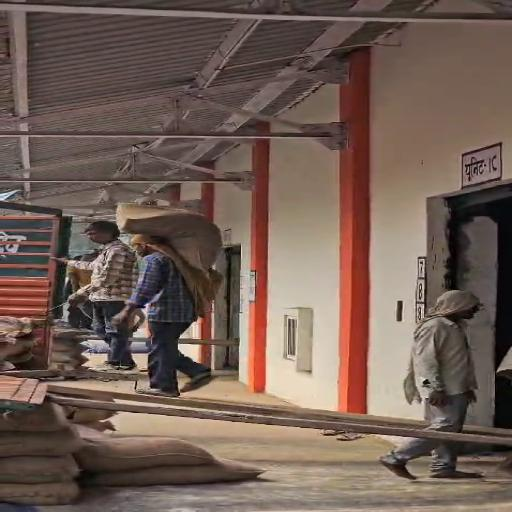bag: (112, 200, 231, 277)
